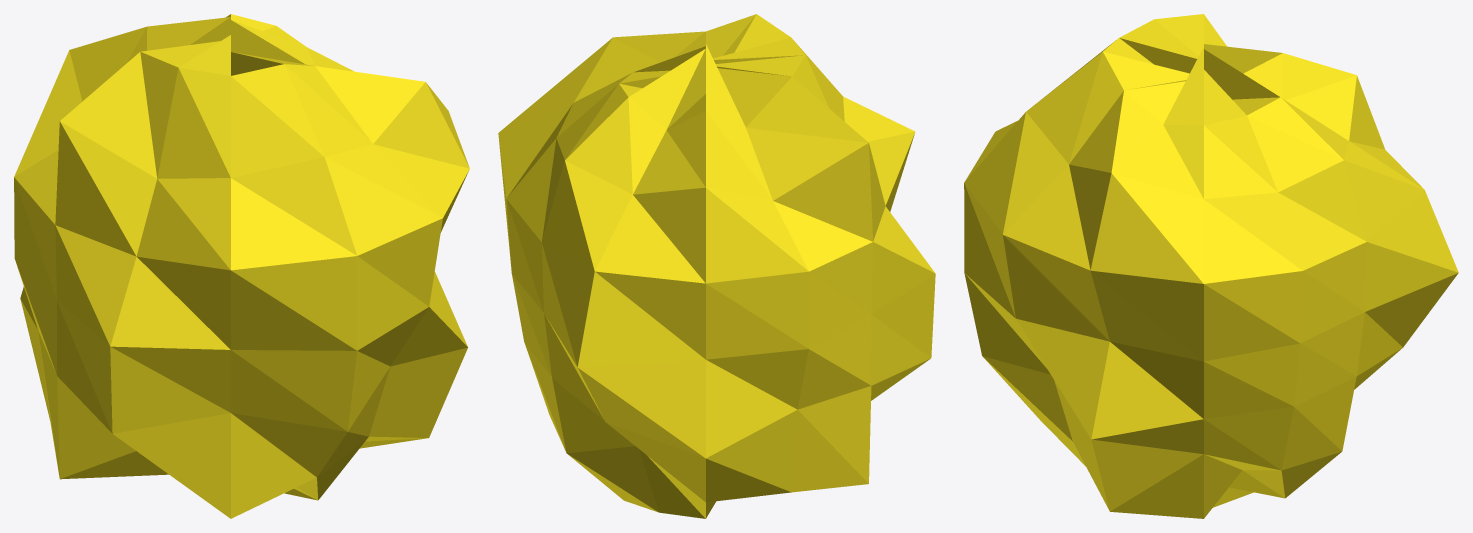
Rendered from asteroid_low_1.obj.
3 views of the same model, side by side, from view 1: azimuth 30°, elevation 25°; view 2: azimuth 150°, elevation 25°; view 3: azimuth 270°, elevation 25° (orthographic). The views are drawn at different scales.
Visible parts, largest first — view 1: asteroid_low; view 2: asteroid_low; view 3: asteroid_low.
Boxes of the visible parts, left/top/right/bottom form: asteroid_low: left=14, top=14, right=469, bottom=518; asteroid_low: left=498, top=14, right=935, bottom=518; asteroid_low: left=964, top=14, right=1458, bottom=518.
Bounding box in the file's own units: 1.93 × 2.29 × 2.19.
